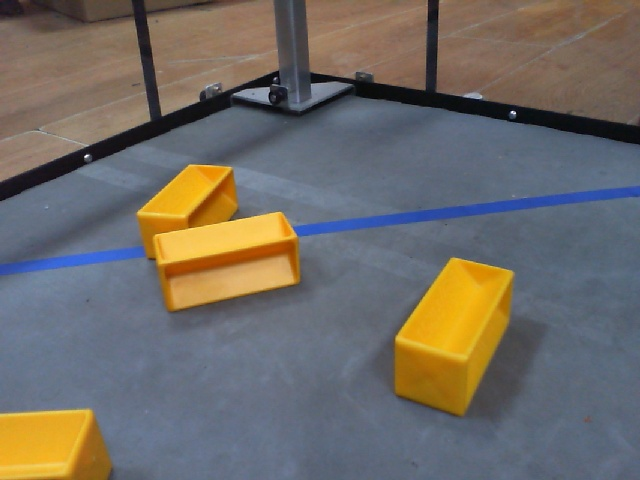YellowSample: (390, 255, 521, 422), (147, 207, 301, 318), (132, 160, 243, 263), (1, 405, 115, 480)
